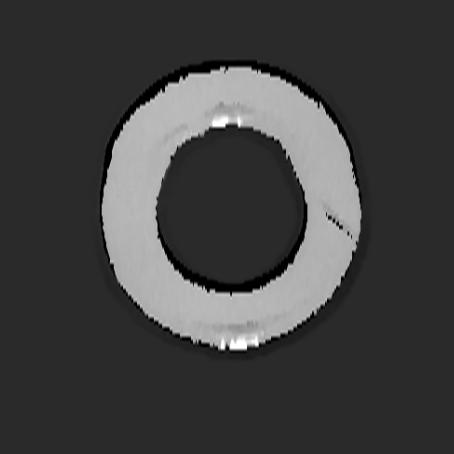defect: (322, 203, 352, 240)
